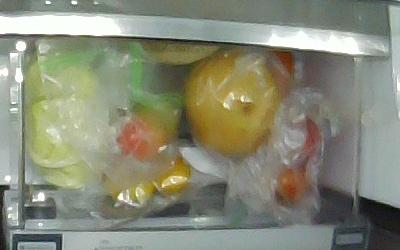cabbage_vinyl: (27, 50, 109, 190)
melon: (139, 39, 220, 66)
pear_vinyl: (183, 50, 281, 155)
prune_vinyl: (275, 164, 308, 209), (301, 117, 320, 157)
tangerine_vinyl: (104, 173, 155, 201), (156, 162, 192, 195)
tomato_vinyl: (116, 103, 179, 160)
